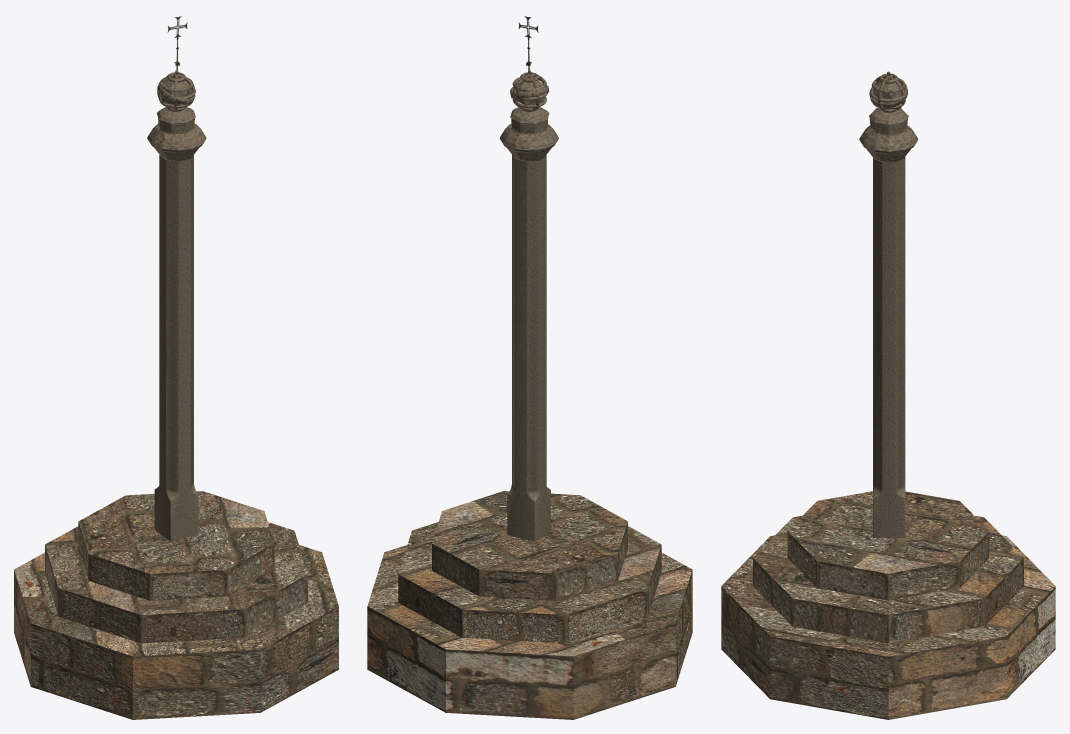
File: pelourinho.glb
3 renders of one model, left to right at view 1: azimuth 30°, elevation 25°; view 2: azimuth 150°, elevation 25°; view 3: azimuth 270°, elevation 25°, orthographic.
Visible parts, largest first — view 1: Cylinder.010, Cylinder.008, Cylinder.009, Cylinder.003, Cylinder, 16815_Armillary_Sphere_v2, Cylinder.005; view 2: Cylinder.010, Cylinder.008, Cylinder.009, Cylinder.003, Cylinder, 16815_Armillary_Sphere_v2, Cylinder.005; view 3: Cylinder.010, Cylinder.008, Cylinder.009, Cylinder.003, Cylinder, 16815_Armillary_Sphere_v2, Cylinder.005.
Boxes of the visible parts, left/top/right/bottom form: Cylinder.010: left=14, top=545, right=338, bottom=719; Cylinder.008: left=78, top=491, right=274, bottom=600; Cylinder.009: left=45, top=522, right=307, bottom=643; Cylinder.003: left=154, top=155, right=198, bottom=541; Cylinder: left=147, top=123, right=206, bottom=160; 16815_Armillary_Sphere_v2: left=157, top=70, right=195, bottom=111; Cylinder.005: left=156, top=107, right=195, bottom=134; Cylinder.010: left=367, top=545, right=692, bottom=719; Cylinder.008: left=432, top=491, right=627, bottom=600; Cylinder.009: left=398, top=522, right=661, bottom=643; Cylinder.003: left=507, top=155, right=550, bottom=541; Cylinder: left=499, top=123, right=558, bottom=161; 16815_Armillary_Sphere_v2: left=510, top=70, right=549, bottom=111; Cylinder.005: left=510, top=107, right=549, bottom=134; Cylinder.010: left=721, top=535, right=1055, bottom=719; Cylinder.008: left=787, top=491, right=989, bottom=600; Cylinder.009: left=753, top=515, right=1023, bottom=643; Cylinder.003: left=873, top=157, right=905, bottom=537; Cylinder: left=859, top=125, right=918, bottom=162; 16815_Armillary_Sphere_v2: left=869, top=71, right=907, bottom=112; Cylinder.005: left=868, top=108, right=908, bottom=135.
Size of the model in its own units: 3.31 by 6.9 by 3.31.
Materials: 3 (3 with a texture image).
